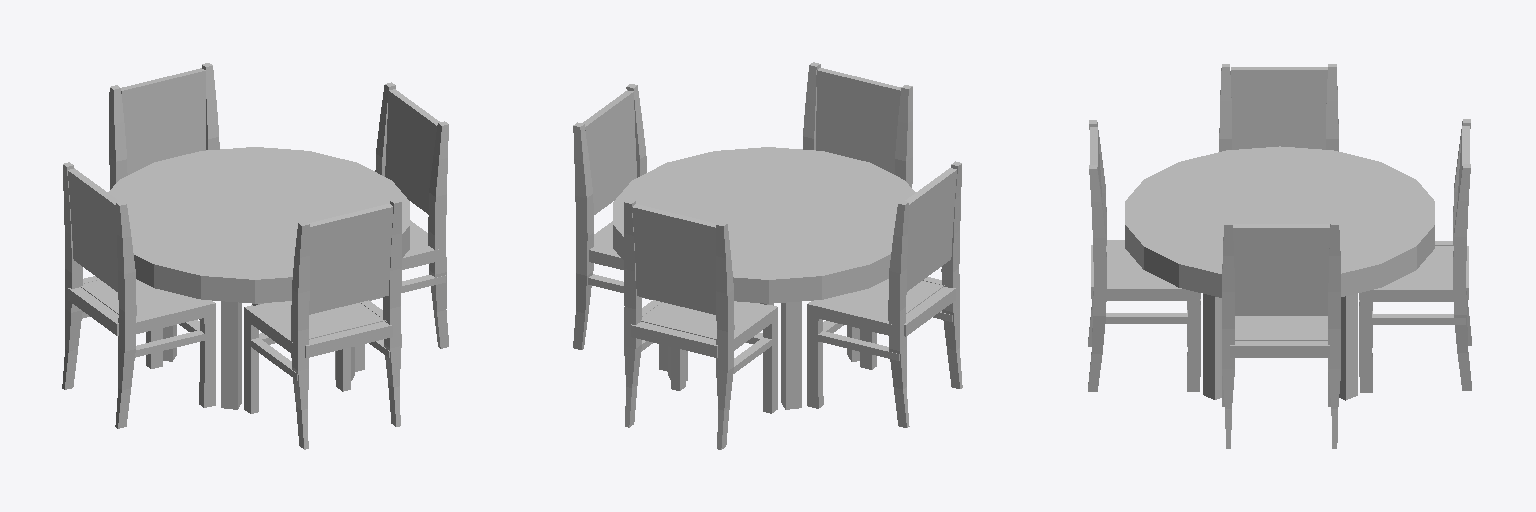
Rendered from Mesa.obj.
3 renders of one model, left to right at view 1: azimuth 30°, elevation 25°; view 2: azimuth 150°, elevation 25°; view 3: azimuth 270°, elevation 25°, orthographic.
Parts seen in each view (by area): view 1: Cylinder001, Box037, Box028, Box019, Box010, Box004, Box003, Box032, Box014, Box033, Box030, Box005 (+11 smaller); view 2: Cylinder001, Box028, Box037, Box019, Box010, Box006, Box012, Box021, Box005, Box023, Box022, Box003 (+11 smaller); view 3: Cylinder001, Box019, Box010, Box024, Box031, Box030, Box023, Box012, Box014, Box020, Cylinder004, Cylinder003 (+5 smaller).
Boxes of the visible parts, x1,y1,x2,y2 form: Cylinder001: [108, 147, 409, 303]; Box037: [308, 204, 392, 314]; Box028: [121, 68, 205, 174]; Box019: [385, 89, 439, 214]; Box010: [68, 168, 119, 291]; Box004: [135, 300, 215, 407]; Box003: [115, 201, 136, 428]; Box032: [291, 221, 309, 449]; Box014: [428, 121, 448, 348]; Box033: [244, 305, 297, 413]; Box030: [383, 199, 401, 426]; Box005: [62, 162, 82, 389]; Cylinder001: [613, 147, 915, 303]; Box028: [632, 204, 716, 314]; Box037: [816, 68, 900, 174]; Box019: [582, 90, 636, 214]; Box010: [905, 168, 956, 291]; Box006: [807, 301, 899, 408]; Box012: [573, 122, 593, 349]; Box021: [716, 222, 734, 449]; Box005: [888, 200, 909, 427]; Box023: [624, 199, 641, 427]; Box022: [716, 305, 777, 413]; Box003: [941, 161, 962, 388]; Cylinder001: [1125, 146, 1434, 297]; Box019: [1233, 224, 1329, 315]; Box010: [1231, 67, 1327, 149]; Box024: [1359, 286, 1465, 392]; Box031: [1106, 285, 1200, 391]; Box030: [1088, 165, 1106, 391]; Box023: [1453, 164, 1471, 390]; Box012: [1328, 221, 1340, 448]; Box014: [1222, 221, 1234, 448]; Box020: [1235, 316, 1327, 340]; Cylinder004: [1203, 294, 1221, 399]; Cylinder003: [1339, 294, 1357, 400].
Bounding box in the file's own units: 146 × 94 × 147.